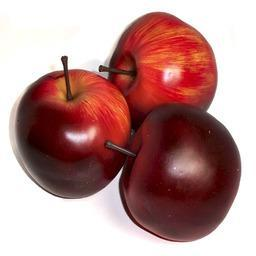apple: (7, 68, 134, 202), (117, 107, 242, 242), (101, 11, 218, 124)
